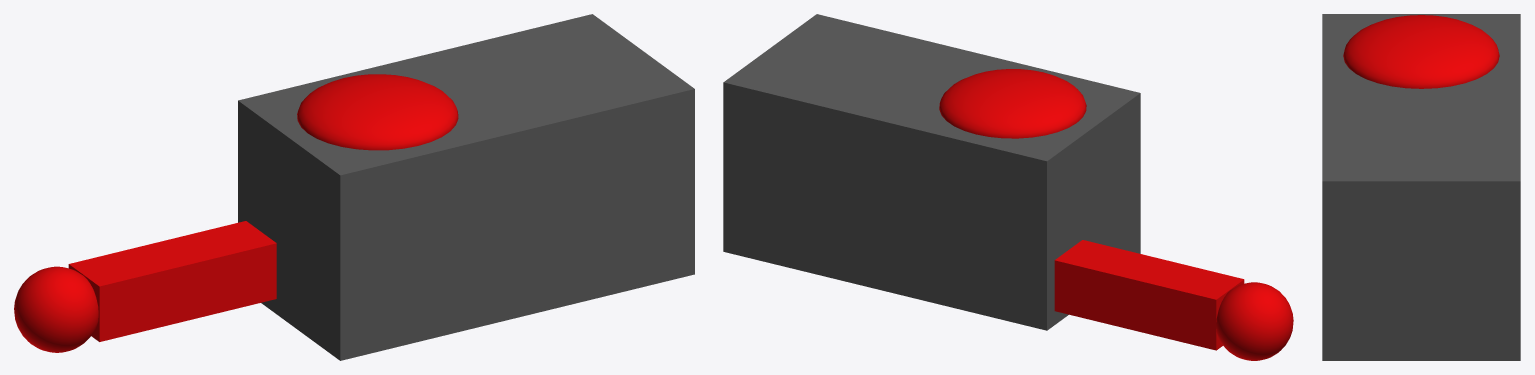
The model's file is Button.fbx.
The picture shows the model from 3 angles, left to right: view 1: azimuth 30°, elevation 25°; view 2: azimuth 150°, elevation 25°; view 3: azimuth 270°, elevation 25°; orthographic projection. The views are drawn at different scales.
Parts seen in each view (by area): view 1: Cube, Cube.001, Sphere, Sphere.001; view 2: Cube, Cube.001, Sphere, Sphere.001; view 3: Cube, Sphere.
Part boxes in pixels (left/top/right/bottom): Cube: left=238, top=14, right=694, bottom=360; Cube.001: left=68, top=221, right=276, bottom=341; Sphere: left=297, top=74, right=458, bottom=150; Sphere.001: left=14, top=266, right=98, bottom=352; Cube: left=723, top=14, right=1140, bottom=330; Cube.001: left=1054, top=240, right=1244, bottom=350; Sphere: left=939, top=69, right=1086, bottom=138; Sphere.001: left=1216, top=282, right=1293, bottom=360; Cube: left=1322, top=14, right=1520, bottom=360; Sphere: left=1343, top=15, right=1499, bottom=88.
Size of the model in its own units: 6.72 by 2.27 by 2.
